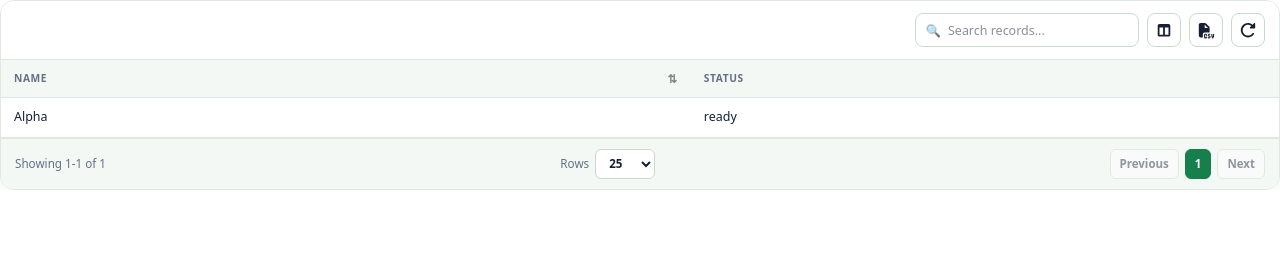
Test: UiDataTable › supports column visibility and expandable row content
Click the row "Alpha ready".
click(640, 118)  # box [1,98,1279,138]
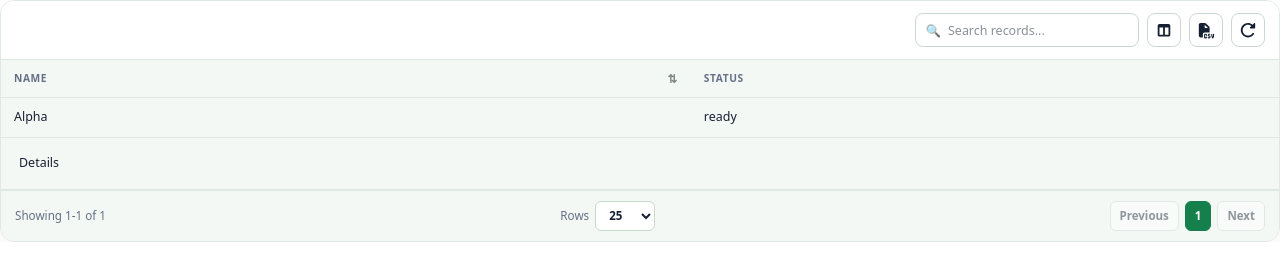
Check: the text with class "expanded-test" reads "Details", box [19,154,59,171]
Click the button named "Choose columns".
click(1164, 30)  # box [1147,13,1181,47]
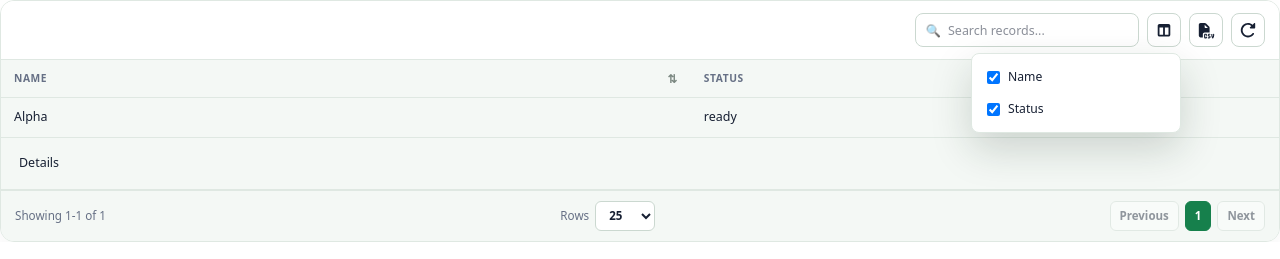
Check: the checkbox labelled "Status" is shown
Click the checkbox labelled "Status".
click(994, 109)  # box [987,103,1000,116]
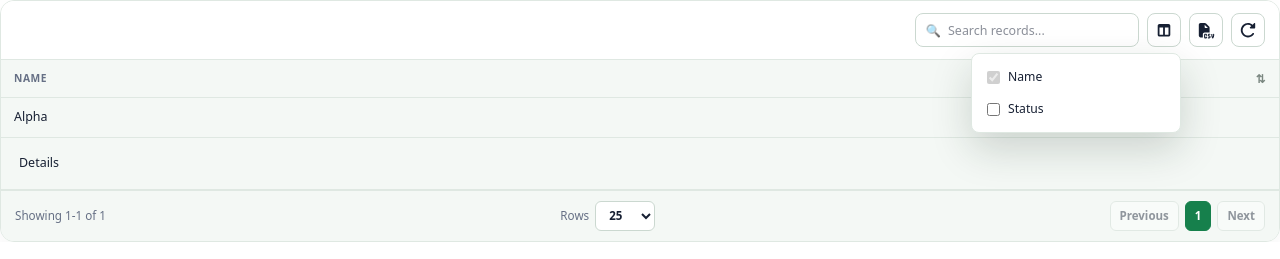
Check: the number of column headings is 1, box [1,60,1279,98]
